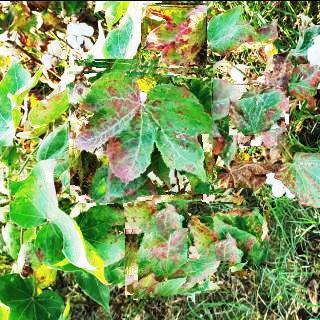blight: (69, 57, 214, 202), (125, 194, 231, 299), (188, 193, 263, 268), (142, 3, 206, 67), (232, 88, 285, 141)
